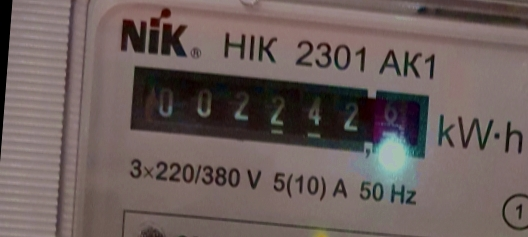0: (156, 85, 178, 119), (194, 85, 215, 119)
2: (268, 92, 288, 127), (232, 89, 253, 122), (342, 100, 361, 133)
4: (307, 93, 325, 127)
6: (383, 97, 400, 125)
screen: (118, 55, 442, 169)
